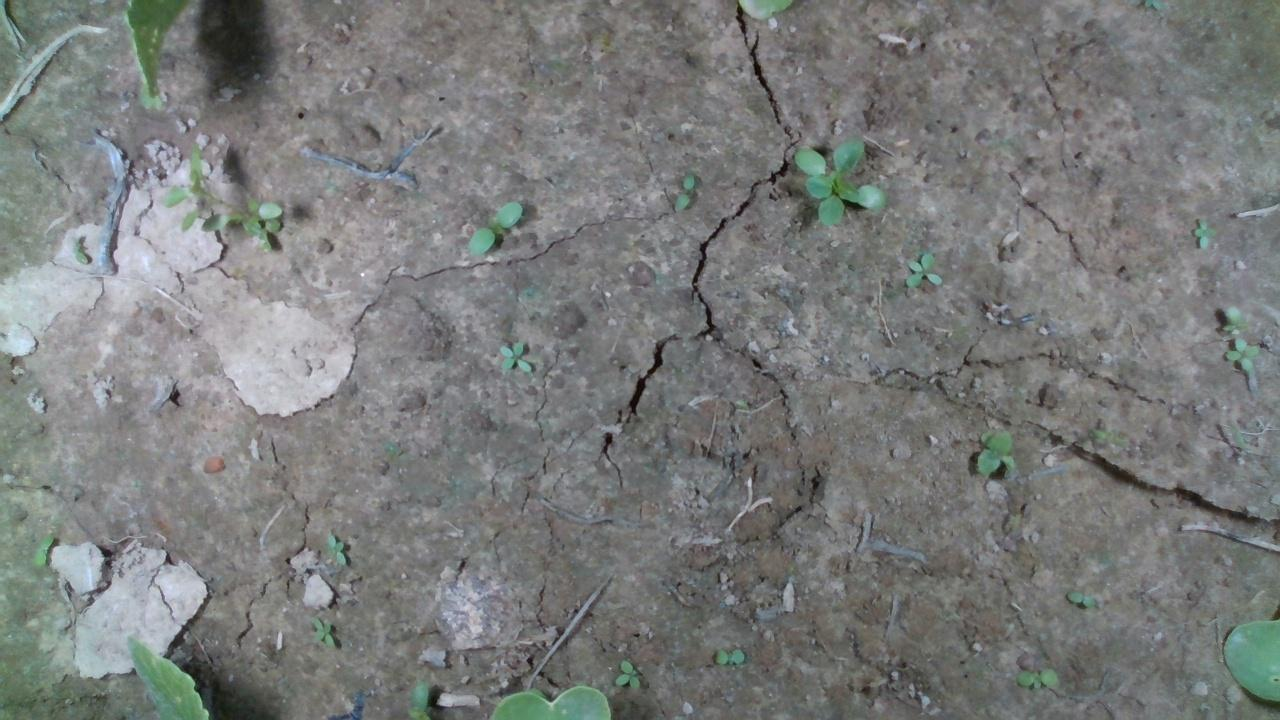weed: (465, 200, 522, 254), (904, 251, 942, 288), (1222, 335, 1260, 369), (496, 340, 532, 373), (1015, 666, 1058, 689), (673, 171, 694, 213), (309, 615, 335, 648), (613, 660, 640, 691), (325, 531, 347, 565), (1192, 217, 1215, 249), (33, 533, 53, 566), (1064, 590, 1094, 608), (712, 648, 744, 664)
